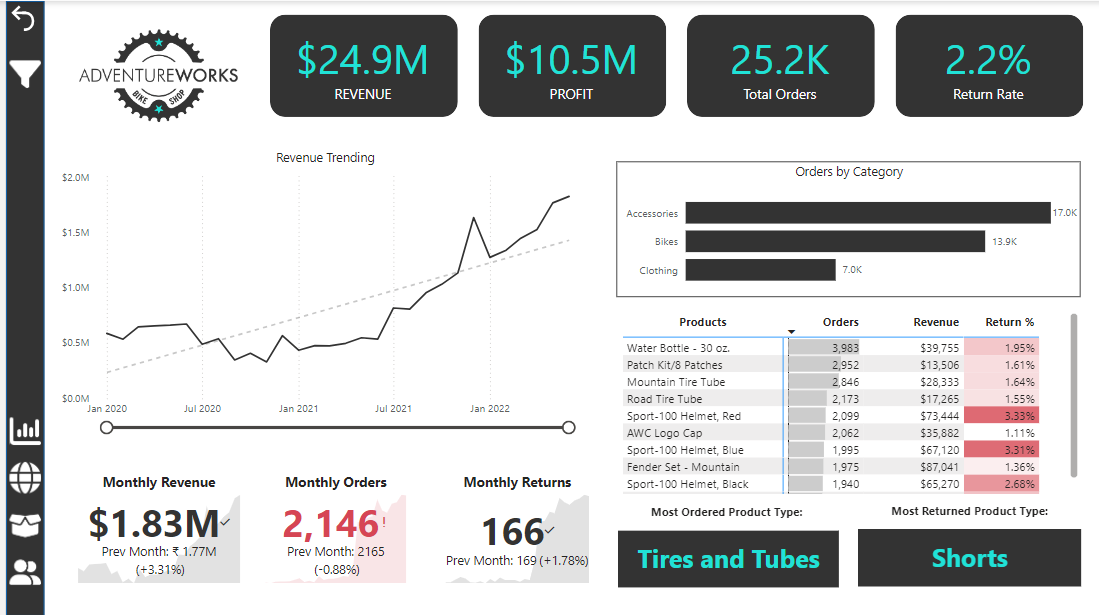

The dashboard page shown, as its layout file describes it:
{"tool":"powerbi","page":{"name":"Exec Dashboard","canvas":[1280,720],"ordinal":0},"visuals":[{"type":"image","title":"AW Logo","box":[60,15,238.3,143.3],"z":0},{"type":"group","id":"g1","title":"KPI Backgrounds","box":[308.3,15,951.7,120],"z":0,"group":"g3"},{"type":"shape","box":[308.3,15,220,120],"z":0,"group":"g1"},{"type":"card","fields":{"Values":["Measure Table.Total Revenue"]},"box":[325,15,185,120],"z":0,"group":"g2"},{"type":"actionButton","box":[0,481.7,90,45],"z":0,"group":"g4"},{"type":"shape","title":"Left Nav Background","box":[0,0,45,720],"z":1000},{"type":"group","id":"g2","title":"KPI Values","box":[325,15,916.7,120],"z":1000,"group":"g3"},{"type":"shape","box":[552.2,15,220,120],"z":1000,"group":"g1"},{"type":"card","fields":{"Values":["Measure Table.Total Profit"]},"box":[568.9,15,185,120],"z":1000,"group":"g2"},{"type":"actionButton","box":[0,536.7,90,45],"z":1000,"group":"g4"},{"type":"group","id":"g3","title":"KPI's","box":[308.3,15,951.7,120],"z":2000},{"type":"shape","box":[796.1,15,220,120],"z":2000,"group":"g1"},{"type":"card","fields":{"Values":["Measure Table.Total Orders"]},"box":[812.8,15,185,120],"z":2000,"group":"g2"},{"type":"actionButton","box":[0,591.7,90,45],"z":2000,"group":"g4"},{"type":"shape","box":[1040,15,220,120],"z":3000,"group":"g1"},{"type":"card","fields":{"Values":["Measure Table.Return Rate"]},"box":[1056.7,15,185,120],"z":3000,"group":"g2"},{"type":"actionButton","box":[0,63.3,90,45],"z":3000},{"type":"actionButton","box":[0,646.7,90,45],"z":3000,"group":"g4"},{"type":"lineChart","title":"Revenue Trending","fields":{"Y":["Measure Table.Total Revenue"],"Category":["Calendar Lookup.Year","Calendar Lookup.Start of Quarter","Calendar Lookup.Start of Month"]},"box":[60,171.7,628.3,338.3],"z":4000},{"type":"kpi","title":"Monthly Revenue","fields":{"Indicator":["Measure Table.Total Revenue"],"TrendLine":["Calendar Lookup.Start of Month"],"Goal":["Measure Table.Previous Month Revenue"]},"box":[78.3,551.7,200,135],"z":5000},{"type":"kpi","title":"Monthly Orders","fields":{"TrendLine":["Calendar Lookup.Start of Month"],"Indicator":["Measure Table.Total Orders"],"Goal":["Measure Table.Previous Month Orders"]},"box":[298.3,551.7,175,135],"z":6000},{"type":"kpi","title":"Monthly Returns","fields":{"TrendLine":["Calendar Lookup.Start of Month"],"Indicator":["Measure Table.Total Returns"],"Goal":["Measure Table.Previous Month Returns"]},"box":[510,551.7,178.3,135],"z":7000},{"type":"barChart","title":"Orders by Category","fields":{"Category":["Product Category Lookup.CategoryName"],"Y":["Measure Table.Total Orders"]},"box":[715,188.3,543.3,158.3],"z":8000},{"type":"pivotTable","fields":{"Rows":["Product Lookup.ProductName"],"Values":["Measure Table.Total Orders","Measure Table.Total Revenue","Measure Table.Return Rate"]},"box":[716.7,360,543.3,221.7],"z":9000},{"type":"card","fields":{"Values":["Min(Product Subcategory Lookup.SubcategoryName)"]},"box":[716.7,620,258.3,66.7],"z":10000},{"type":"textbox","box":[715,583.3,258.3,36.7],"z":11000},{"type":"card","fields":{"Values":["Min(Product Subcategory Lookup.SubcategoryName)"]},"box":[997.1,618.6,261.4,67.1],"z":12000},{"type":"textbox","box":[998.3,581.7,261.7,36.7],"z":13000},{"type":"actionButton","box":[0,0,45,40],"z":14000},{"type":"group","id":"g4","title":"Navigation Button","box":[0,481.7,90,210],"z":15000}]}

Visuals, with their boxes on the page's 1280x720 design canvas (x1, y1, x2, y2). These are canvas units, not pixel positions in the 1099x615 screenshot, which may show the page scaled, cropped or inside an application window:
"AW Logo" image: [60, 15, 298, 158]
"KPI Backgrounds" group: [308, 15, 1260, 135]
shape: [308, 15, 528, 135]
card - Measure Table.Total Revenue: [325, 15, 510, 135]
actionButton: [0, 482, 90, 527]
"Left Nav Background" shape: [0, 0, 45, 720]
"KPI Values" group: [325, 15, 1242, 135]
shape: [552, 15, 772, 135]
card - Measure Table.Total Profit: [569, 15, 754, 135]
actionButton: [0, 537, 90, 582]
"KPI's" group: [308, 15, 1260, 135]
shape: [796, 15, 1016, 135]
card - Measure Table.Total Orders: [813, 15, 998, 135]
actionButton: [0, 592, 90, 637]
shape: [1040, 15, 1260, 135]
card - Measure Table.Return Rate: [1057, 15, 1242, 135]
actionButton: [0, 63, 90, 108]
actionButton: [0, 647, 90, 692]
"Revenue Trending" lineChart: [60, 172, 688, 510]
"Monthly Revenue" kpi: [78, 552, 278, 687]
"Monthly Orders" kpi: [298, 552, 473, 687]
"Monthly Returns" kpi: [510, 552, 688, 687]
"Orders by Category" barChart: [715, 188, 1258, 347]
pivotTable - Product Lookup.ProductName x Measure Table.Total Orders: [717, 360, 1260, 582]
card - Min(Product Subcategory Lookup.SubcategoryName): [717, 620, 975, 687]
textbox: [715, 583, 973, 620]
card - Min(Product Subcategory Lookup.SubcategoryName): [997, 619, 1258, 686]
textbox: [998, 582, 1260, 618]
actionButton: [0, 0, 45, 40]
"Navigation Button" group: [0, 482, 90, 692]
